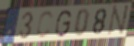0: (73, 8, 91, 38)
3: (18, 11, 35, 41)
8: (92, 8, 108, 36)
C: (35, 10, 55, 40)
G: (54, 9, 73, 39)
N: (106, 4, 130, 37)
